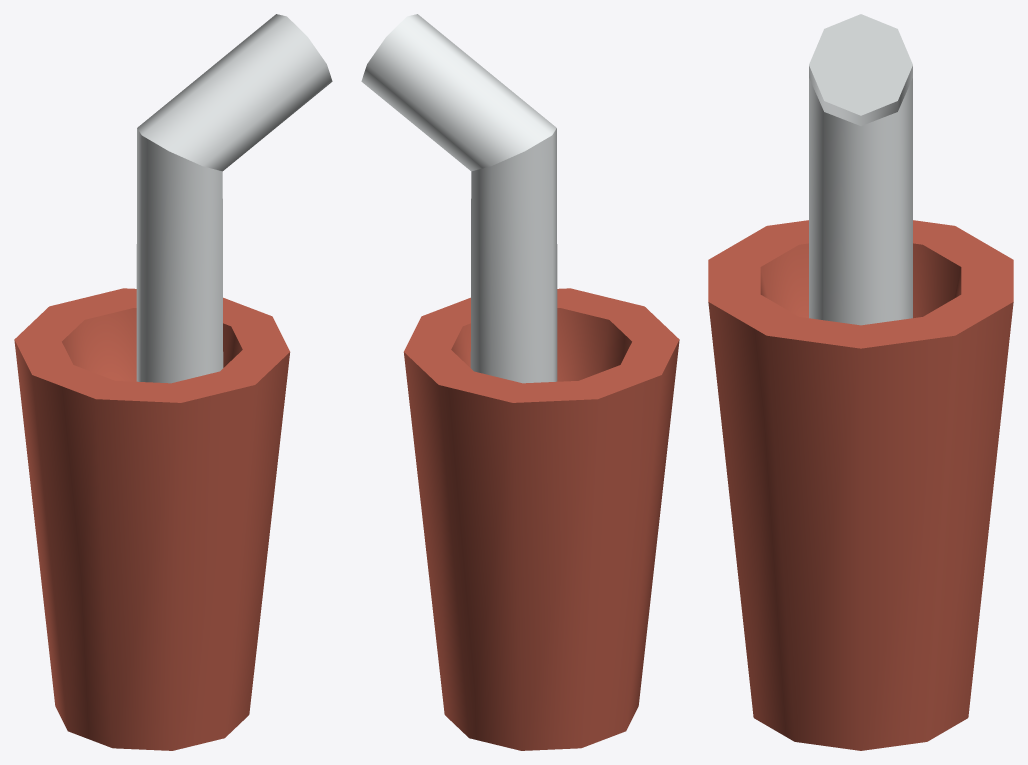
File: glass01_s03.FBX
3 views of the same model, side by side, from view 1: azimuth 30°, elevation 25°; view 2: azimuth 150°, elevation 25°; view 3: azimuth 270°, elevation 25° (orthographic). The views are drawn at different scales.
Visible parts, largest first — view 1: glass01_s03; view 2: glass01_s03; view 3: glass01_s03.
Part boxes in pixels (<box>): glass01_s03: <box>14,14,332,750</box>; glass01_s03: <box>361,14,679,750</box>; glass01_s03: <box>708,14,1013,750</box>.
Bounding box in the file's own units: 42.91 × 33.85 × 93.63.
1 material, 1 textured.
